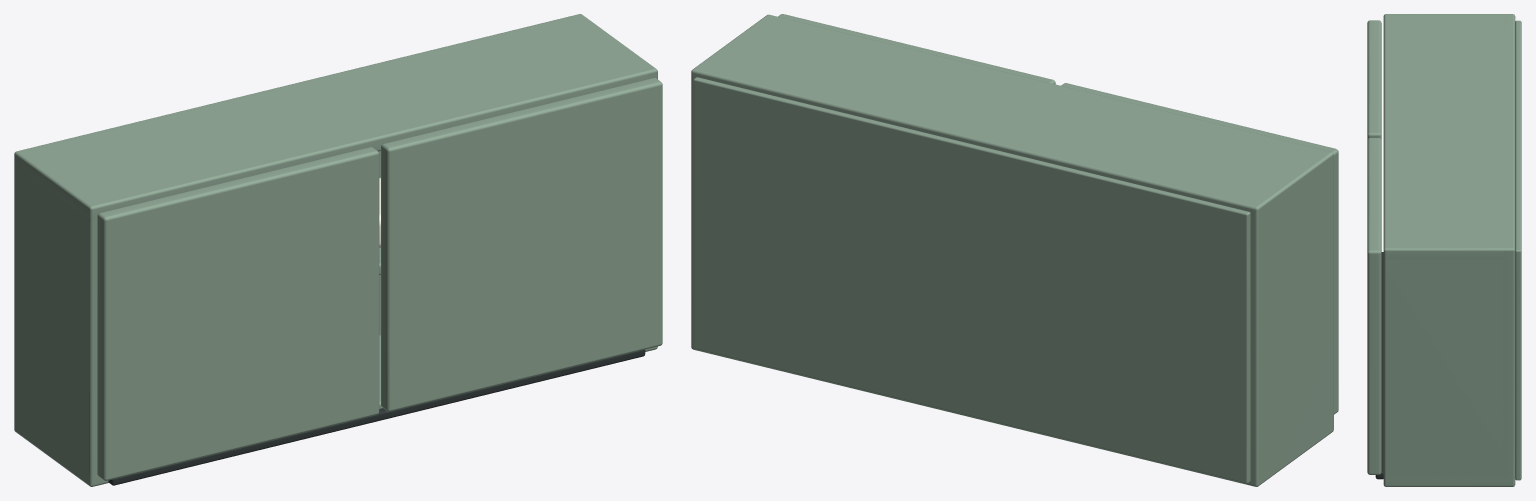
Rendered from kitchenModernWallCabinetSage.glb.
3 views of the same model, side by side, from view 1: azimuth 30°, elevation 25°; view 2: azimuth 150°, elevation 25°; view 3: azimuth 270°, elevation 25° (orthographic). The views are drawn at different scales.
Parts seen in each view (by area): view 1: Flat handleless cabinet door, Flat handleless cabinet door.001, Storage inner floor.001, Storage inner side, Recessed cabinet finger rail, Storage inner back; view 2: Wall backplate, Storage inner floor.001, Storage inner side, Storage inner back, Flat handleless cabinet door, Flat handleless cabinet door.001; view 3: Storage inner floor.001, Storage inner side.001, Flat handleless cabinet door.001, Wall backplate, Storage inner back, Flat handleless cabinet door, Storage inner floor, Recessed cabinet finger rail.
Boxes of the visible parts, left/top/right/bottom form: Flat handleless cabinet door: left=97, top=147, right=379, bottom=480; Flat handleless cabinet door.001: left=381, top=78, right=662, bottom=411; Storage inner floor.001: left=15, top=14, right=656, bottom=219; Storage inner side: left=14, top=149, right=102, bottom=486; Recessed cabinet finger rail: left=108, top=349, right=645, bottom=485; Storage inner back: left=14, top=14, right=581, bottom=335; Wall backplate: left=693, top=77, right=1250, bottom=483; Storage inner floor.001: left=692, top=14, right=1332, bottom=219; Storage inner side: left=1246, top=152, right=1333, bottom=486; Storage inner back: left=691, top=71, right=1264, bottom=486; Flat handleless cabinet door: left=1061, top=83, right=1338, bottom=414; Flat handleless cabinet door.001: left=778, top=14, right=1055, bottom=84; Storage inner floor.001: left=1383, top=14, right=1515, bottom=259; Storage inner side.001: left=1383, top=246, right=1515, bottom=486; Flat handleless cabinet door.001: left=1367, top=138, right=1381, bottom=474; Wall backplate: left=1515, top=20, right=1521, bottom=480; Storage inner back: left=1503, top=14, right=1515, bottom=485; Flat handleless cabinet door: left=1367, top=20, right=1381, bottom=140; Storage inner floor: left=1383, top=477, right=1514, bottom=485; Recessed cabinet finger rail: left=1375, top=252, right=1383, bottom=479.
Size of the model in its own units: 1.78 by 0.84 by 0.4915.
